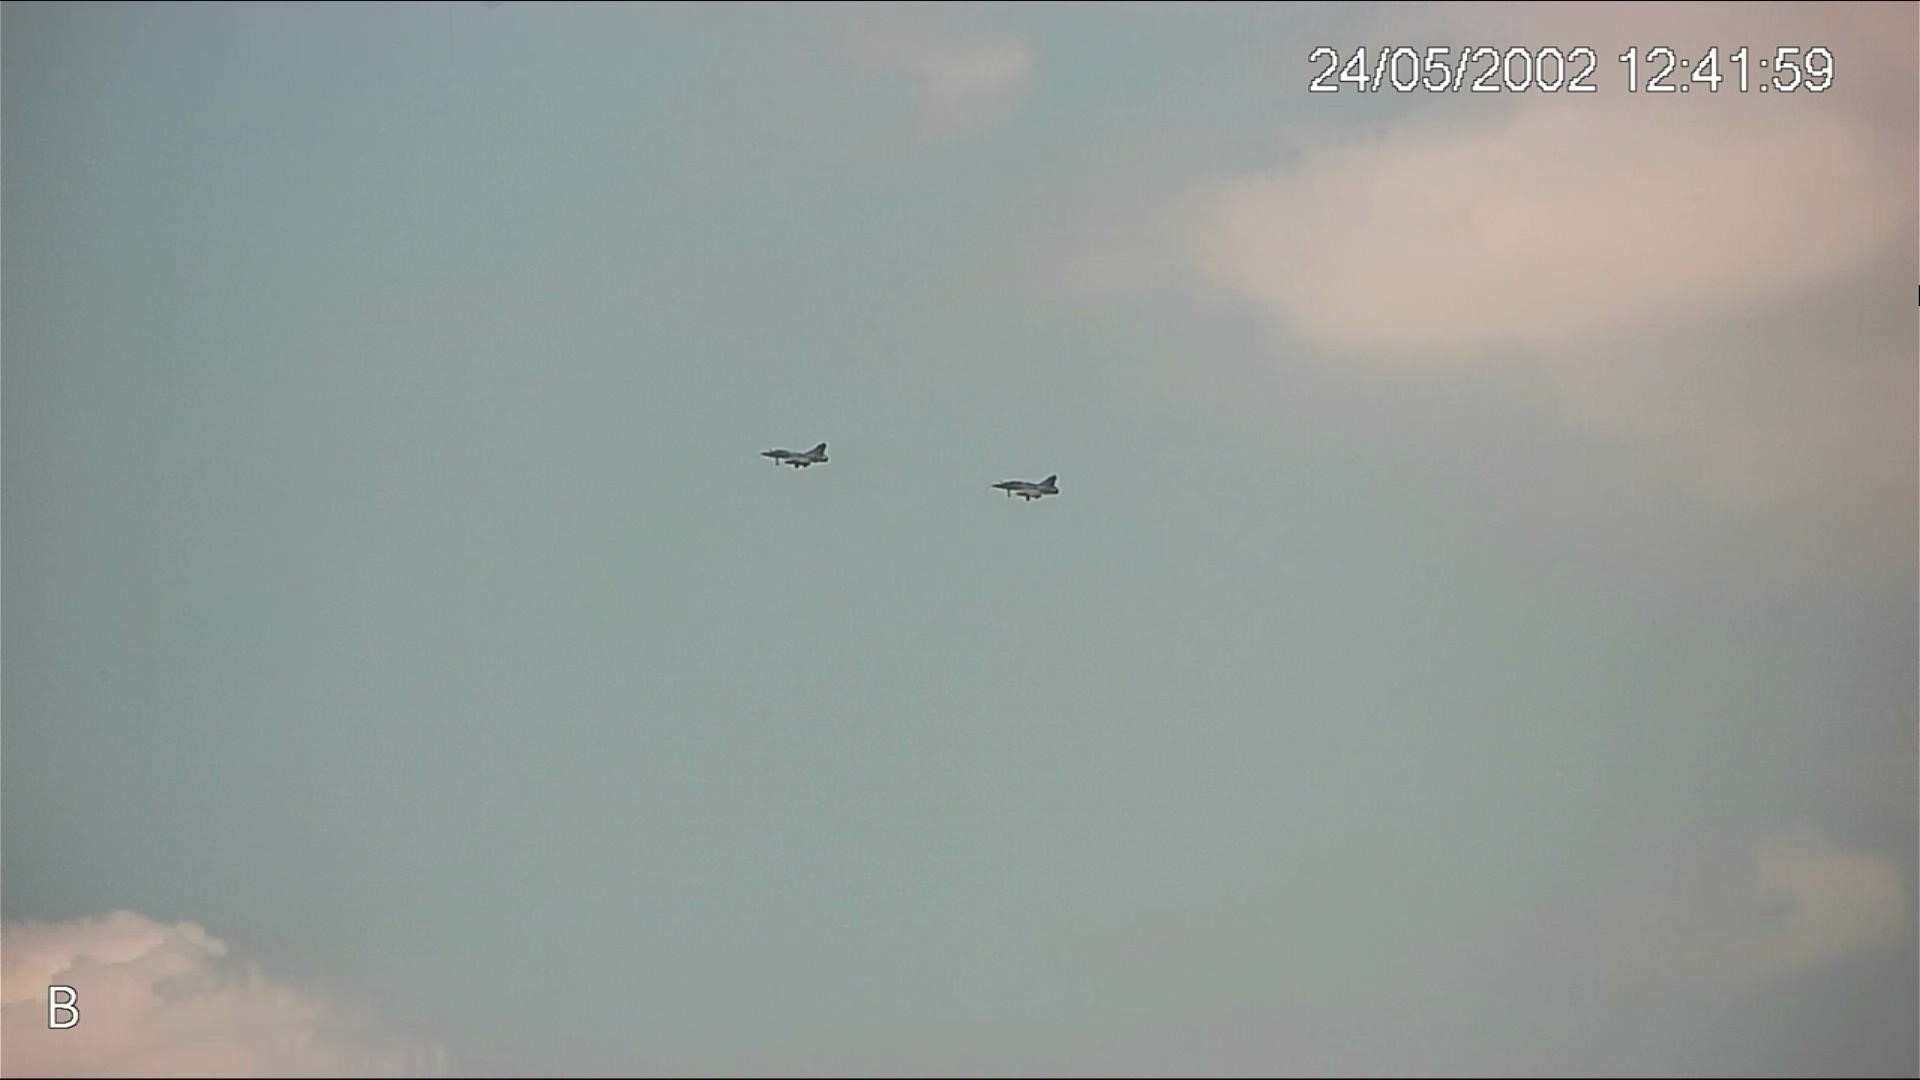SU_30: (984, 473, 1062, 501), (760, 440, 831, 469)
